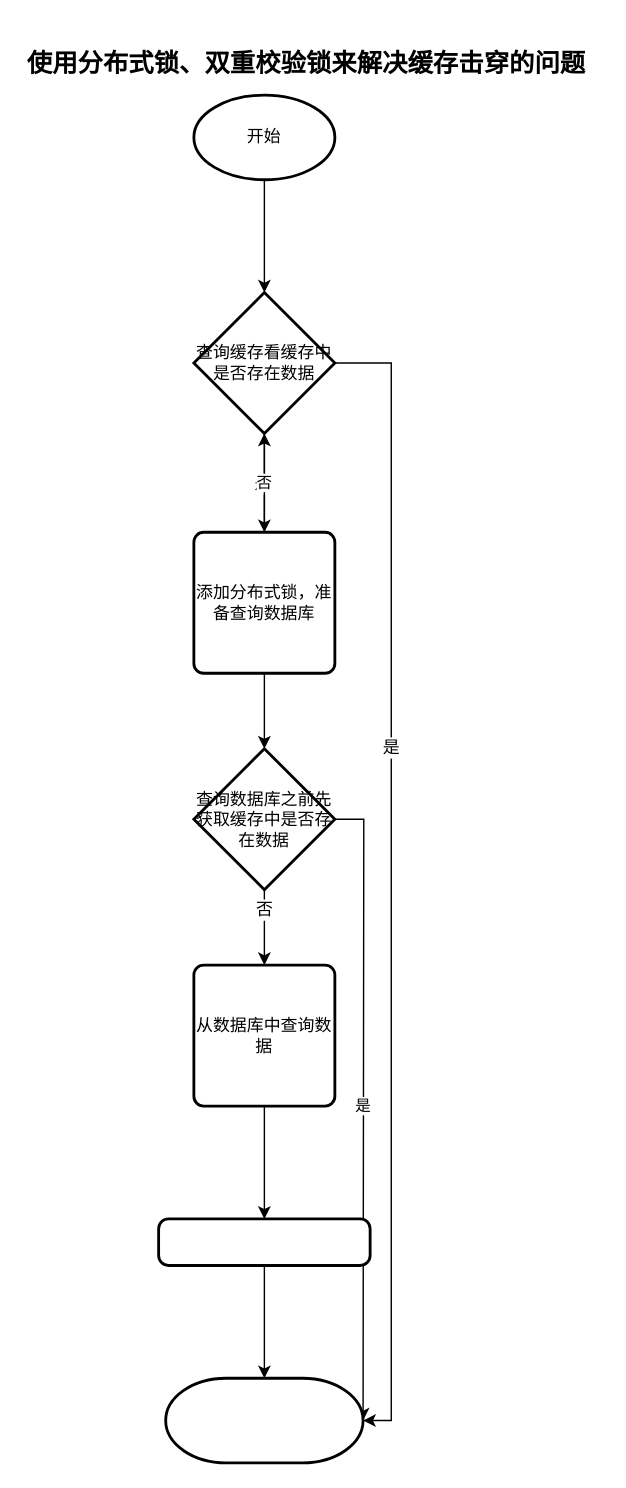
The diagram is 626 pixels wide and 1488 high, and some of its shapes have lost their labels. The centre of each missing label's shape, as x and y in pixels:
将数据放入redis缓存当中: point (264, 1241)
返回数据，查询结束: point (264, 1420)
